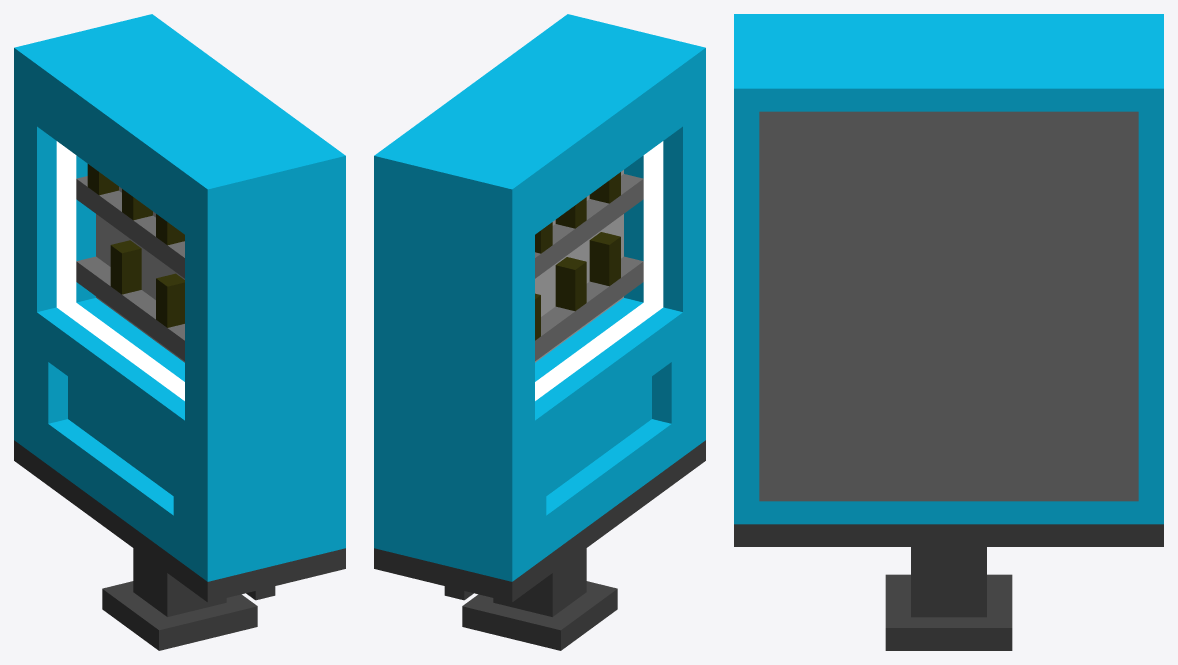
The model's file is smallVendingMachine.glb.
The picture shows the model from 3 angles, left to right: view 1: azimuth 30°, elevation 25°; view 2: azimuth 150°, elevation 25°; view 3: azimuth 270°, elevation 25°; orthographic projection. The views are drawn at different scales.
Visible parts, largest first — view 1: ObjObject; view 2: ObjObject; view 3: ObjObject.
Boxes of the visible parts, x1=… form: ObjObject: x1=14, y1=14, x2=345, y2=650; ObjObject: x1=374, y1=14, x2=705, y2=650; ObjObject: x1=734, y1=14, x2=1163, y2=650.
Bounding box in the file's own units: 0.7 × 2.5 × 1.7.
2 materials, 1 textured.
